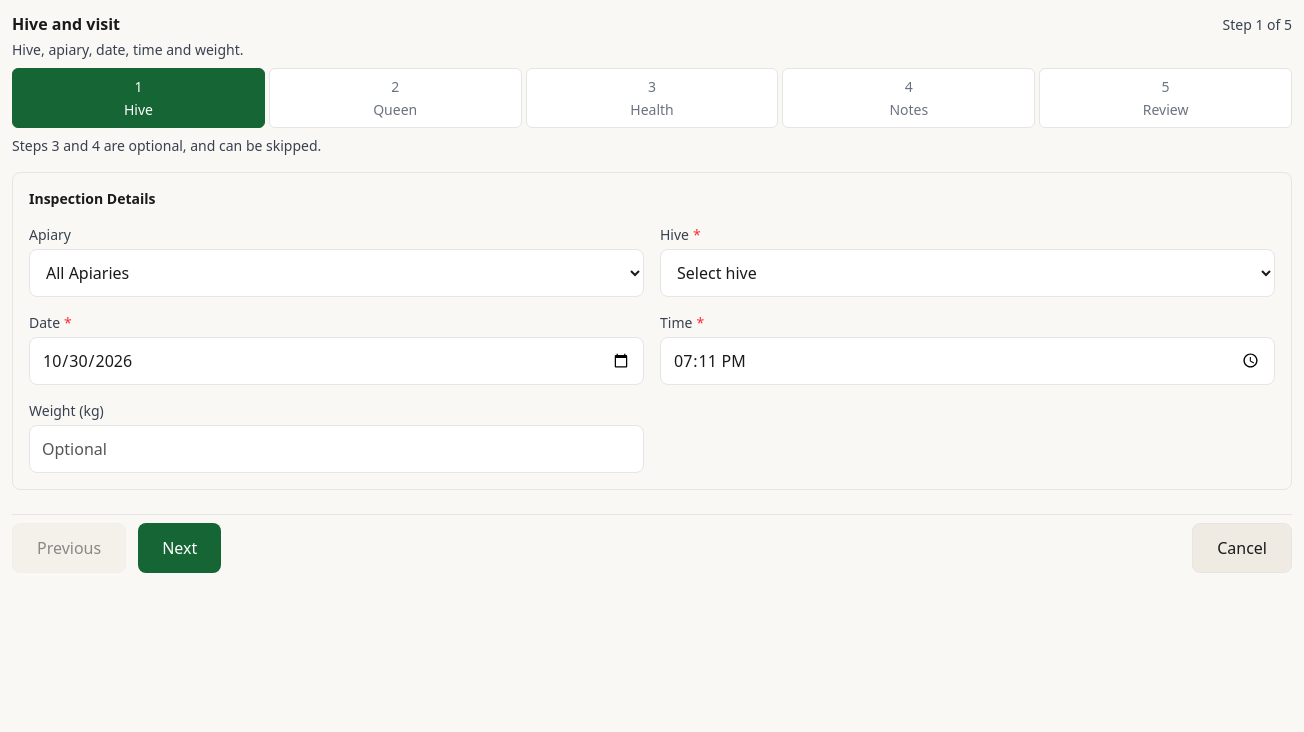
Test: step gating › preserves values entered on an earlier step
Step 1. Type "18.5" into the number field labelled "Weight (kg)" → coordinates (336, 448), box [29, 424, 644, 472]
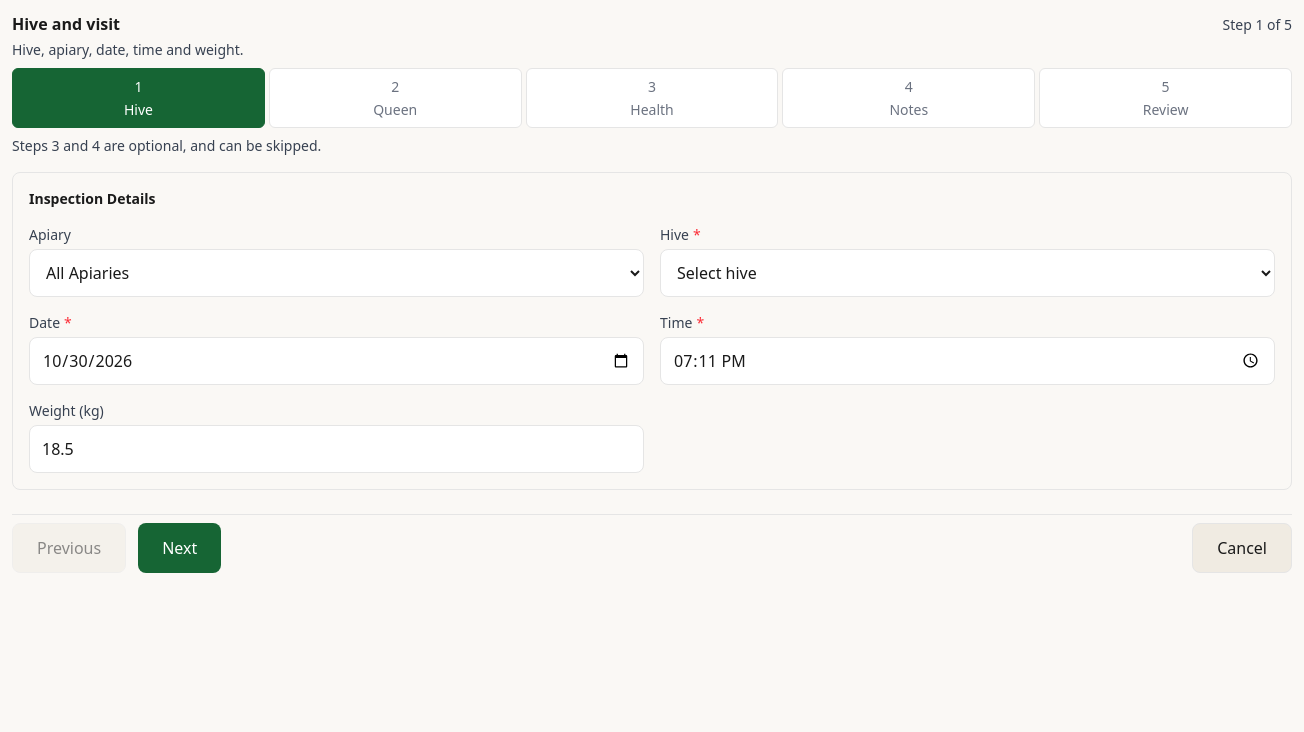
Step 2. Select "H1" in the dropdown labelled "Hive*" → coordinates (968, 272), box [660, 248, 1275, 296]
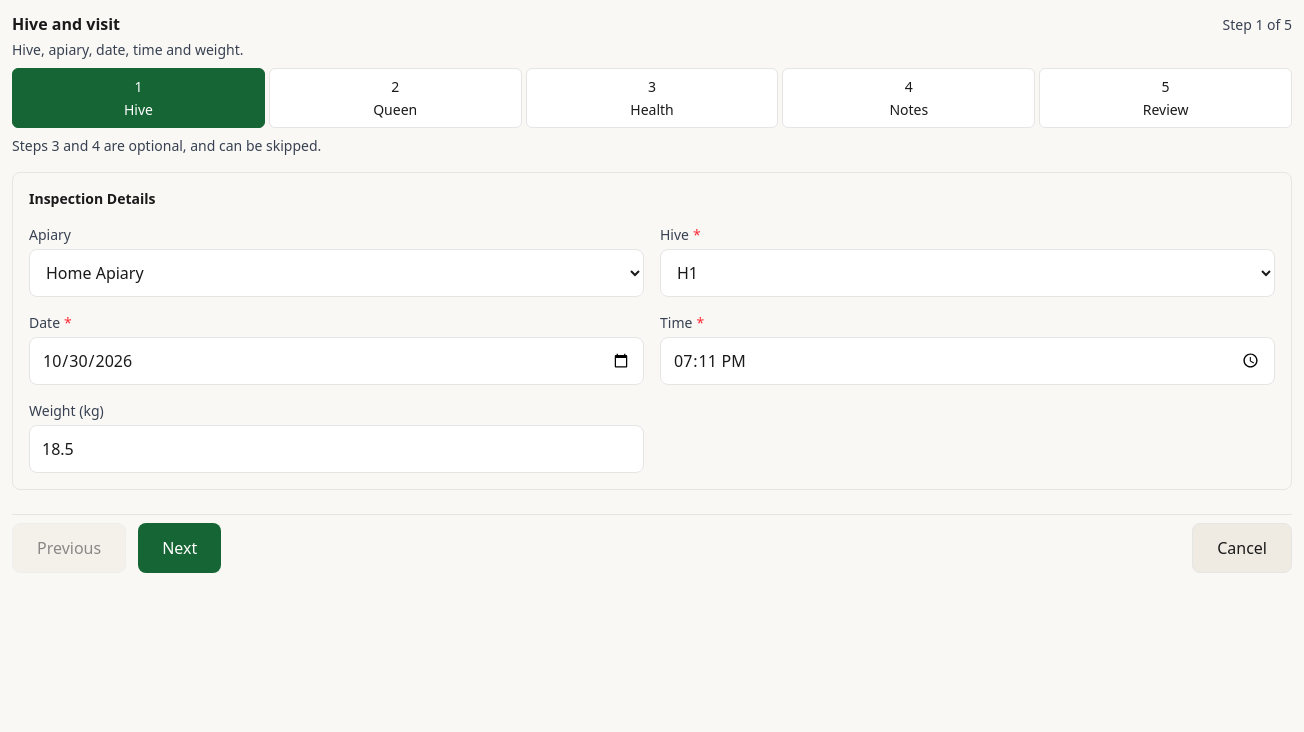
Step 3. Click the button "Next" → coordinates (180, 548), box [138, 522, 221, 572]
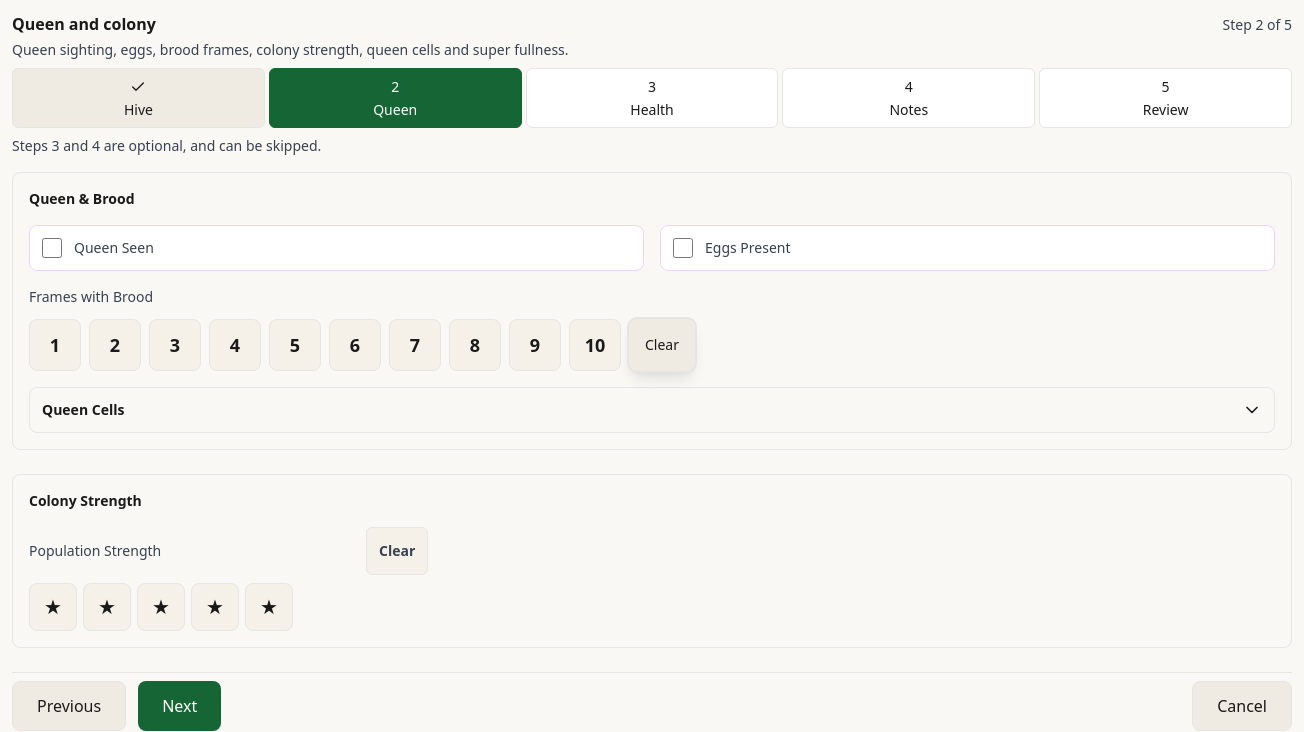
Step 4. Click the button "Previous" → coordinates (69, 706), box [12, 680, 126, 730]
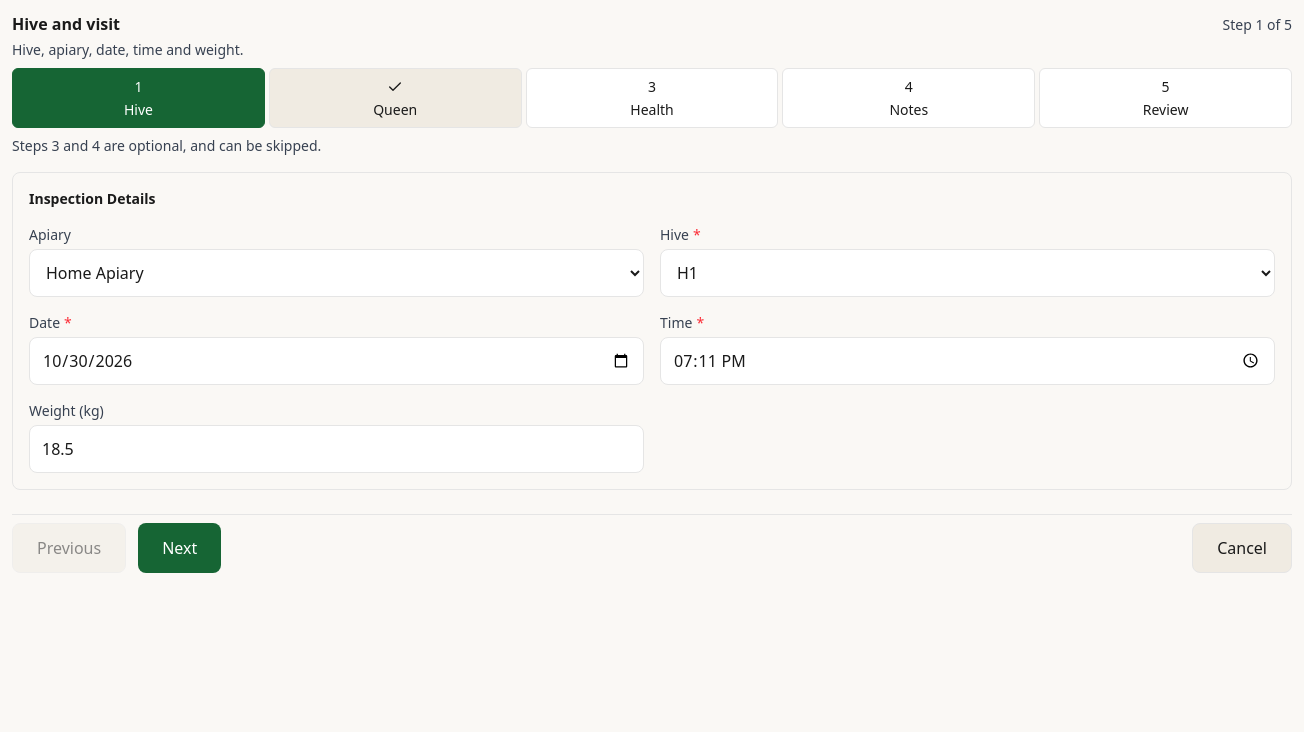
Expected: the number field labelled "Weight (kg)" holds "18.5", [29, 424, 644, 472]
